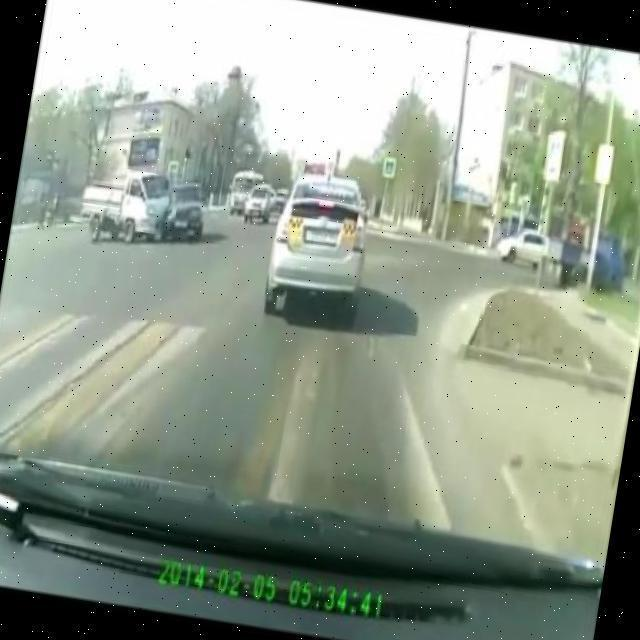accident: (71, 158, 216, 258)
